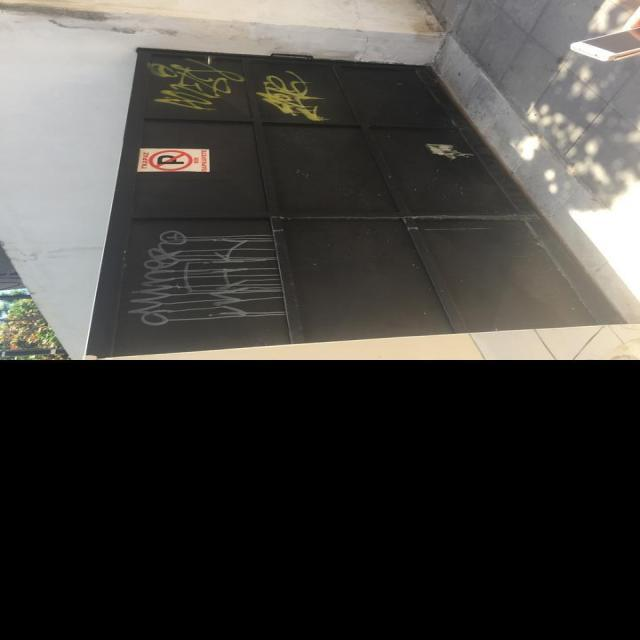nonspitting: (128, 230, 286, 325), (148, 59, 244, 109), (256, 69, 330, 121)
